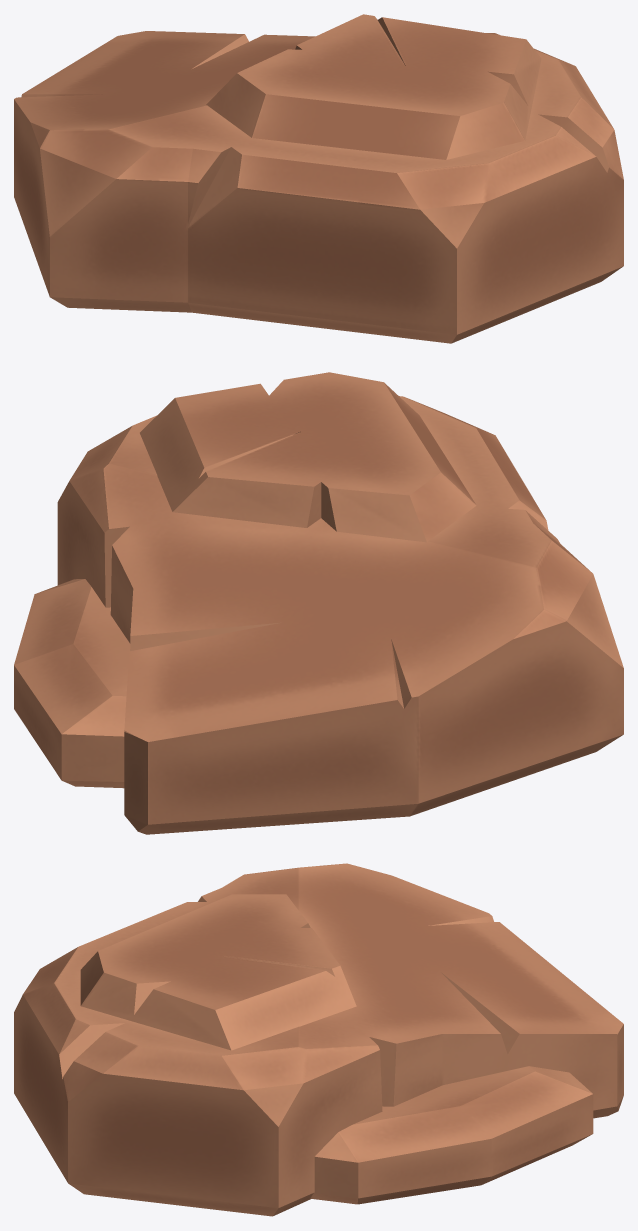
The model's file is small_rock_01.glb.
3 renders of one model, top to bottom at view 1: azimuth 30°, elevation 25°; view 2: azimuth 150°, elevation 25°; view 3: azimuth 270°, elevation 25°, orthographic. The views are drawn at different scales.
Parts seen in each view (by area): view 1: Cube.001_small_rock_0; view 2: Cube.001_small_rock_0; view 3: Cube.001_small_rock_0.
Boxes of the visible parts, x1,y1,x2,y2 form: Cube.001_small_rock_0: (14,14,623,343); Cube.001_small_rock_0: (14,372,623,834); Cube.001_small_rock_0: (14,863,623,1216).
Bounding box in the file's own units: 2.67 × 0.9959 × 2.9.
1 material, 1 textured.
